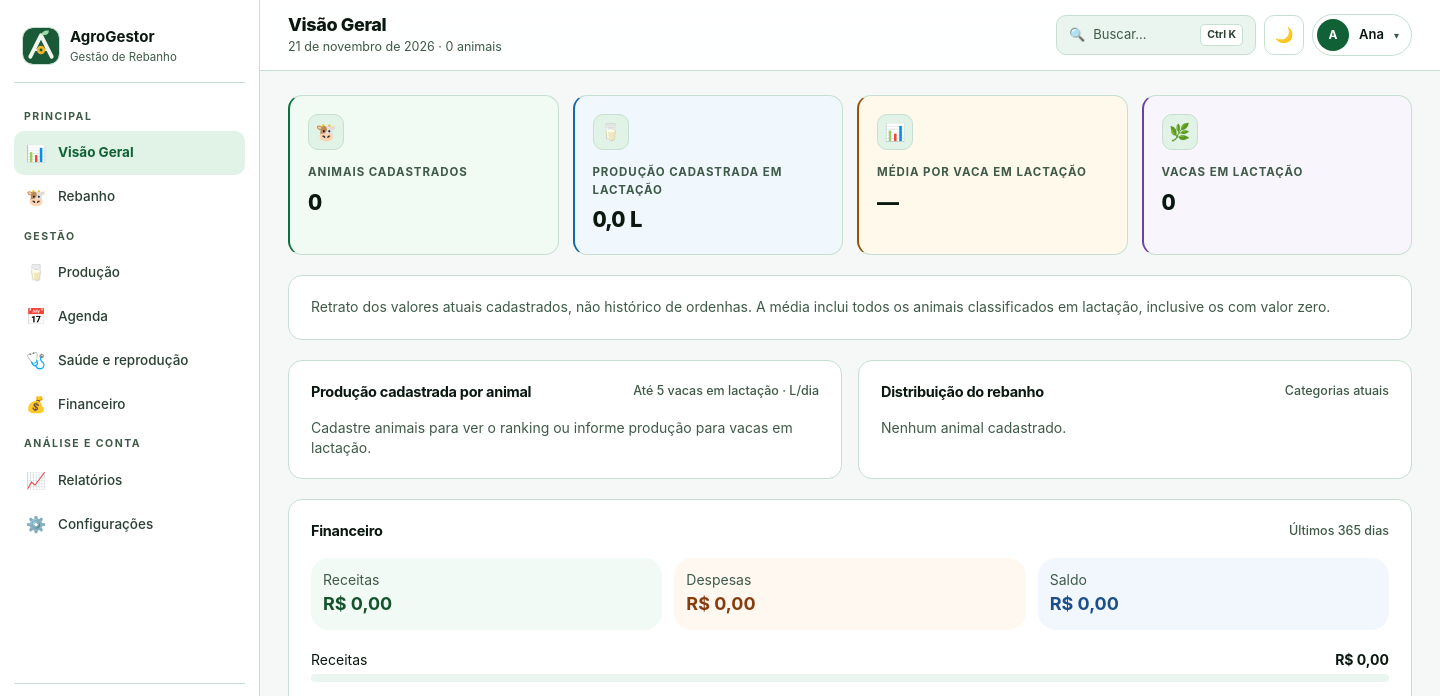
Scenario: permite recolher, usar e expandir a barra lateral
Click the button named "Recolher barra lateral".
click(41, 46)  # box [22,27,60,65]
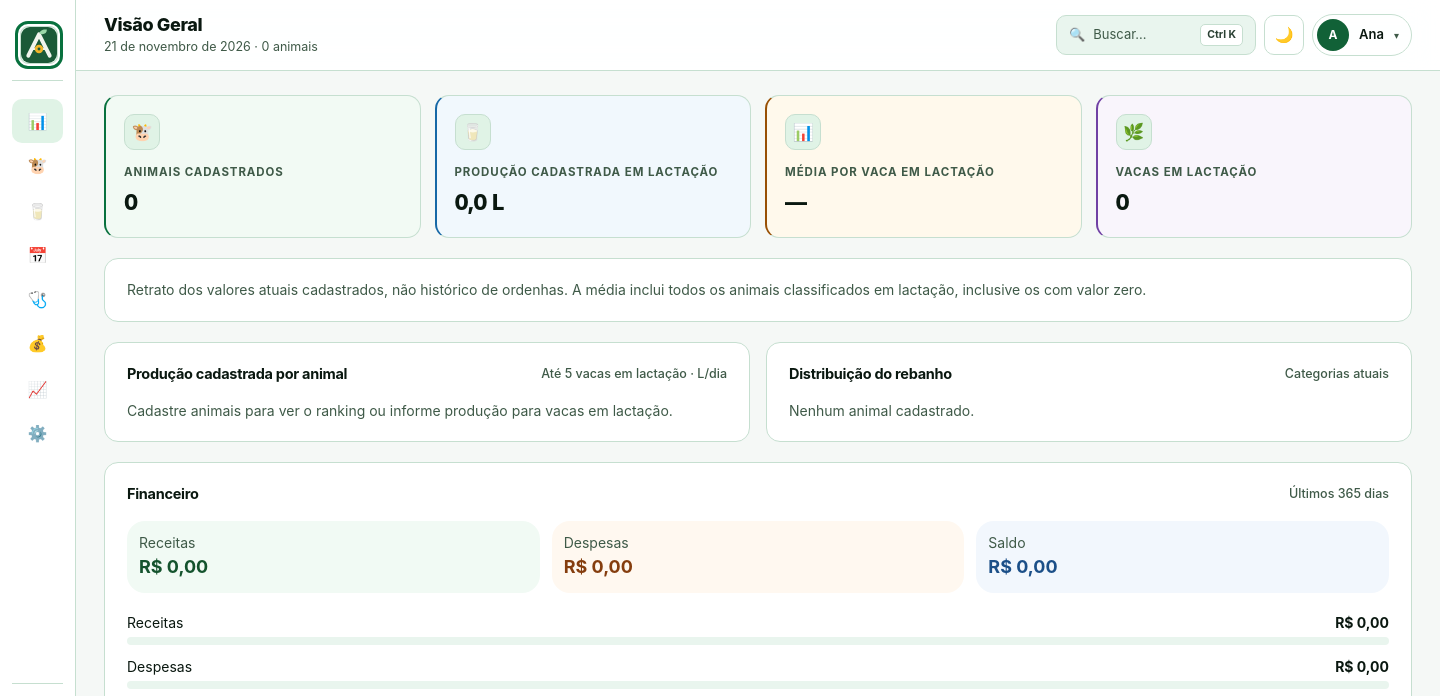
Now the button named "Expandir barra lateral" is collapsed, box [20,26,58,64]
Click the button named "Rebanho".
click(38, 165)  # box [12,143,63,187]
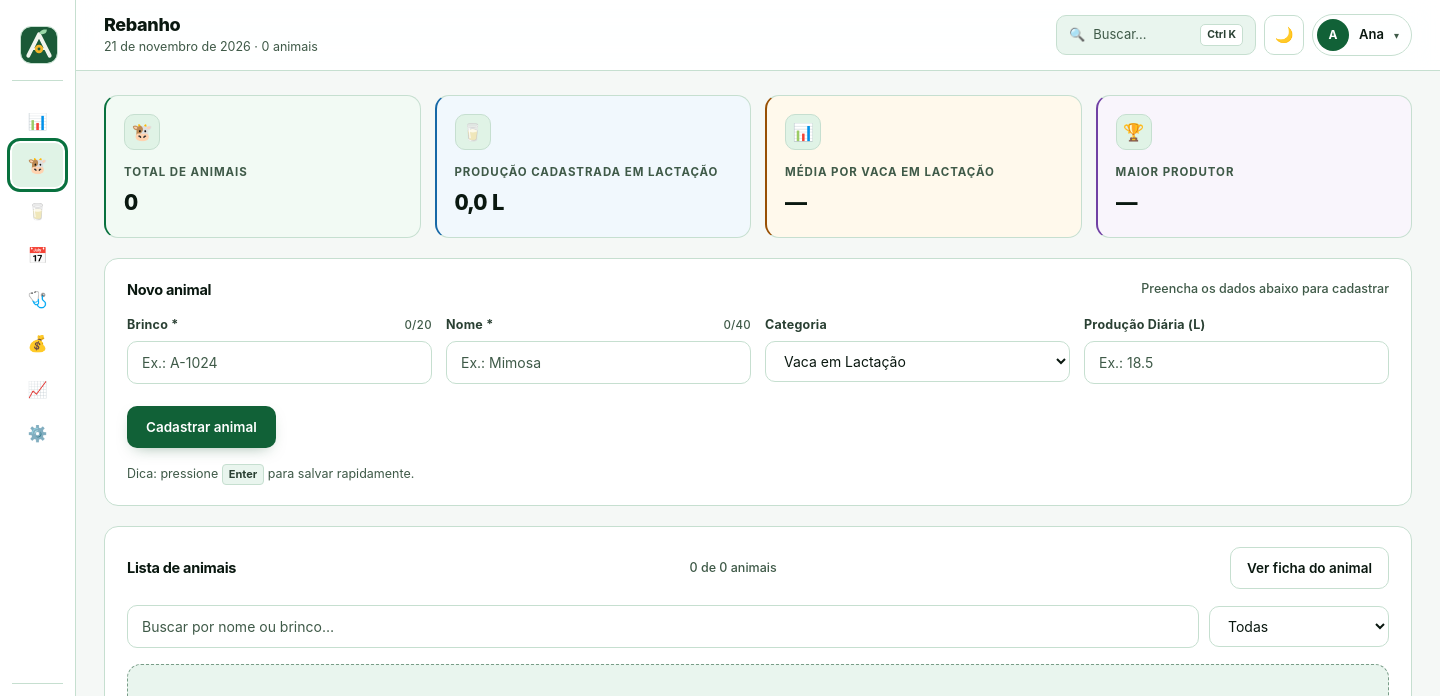
Now the heading "Rebanho" is shown, box [104,14,180,35]
Click the button named "Expandir barra lateral".
click(39, 45)  # box [20,26,58,64]
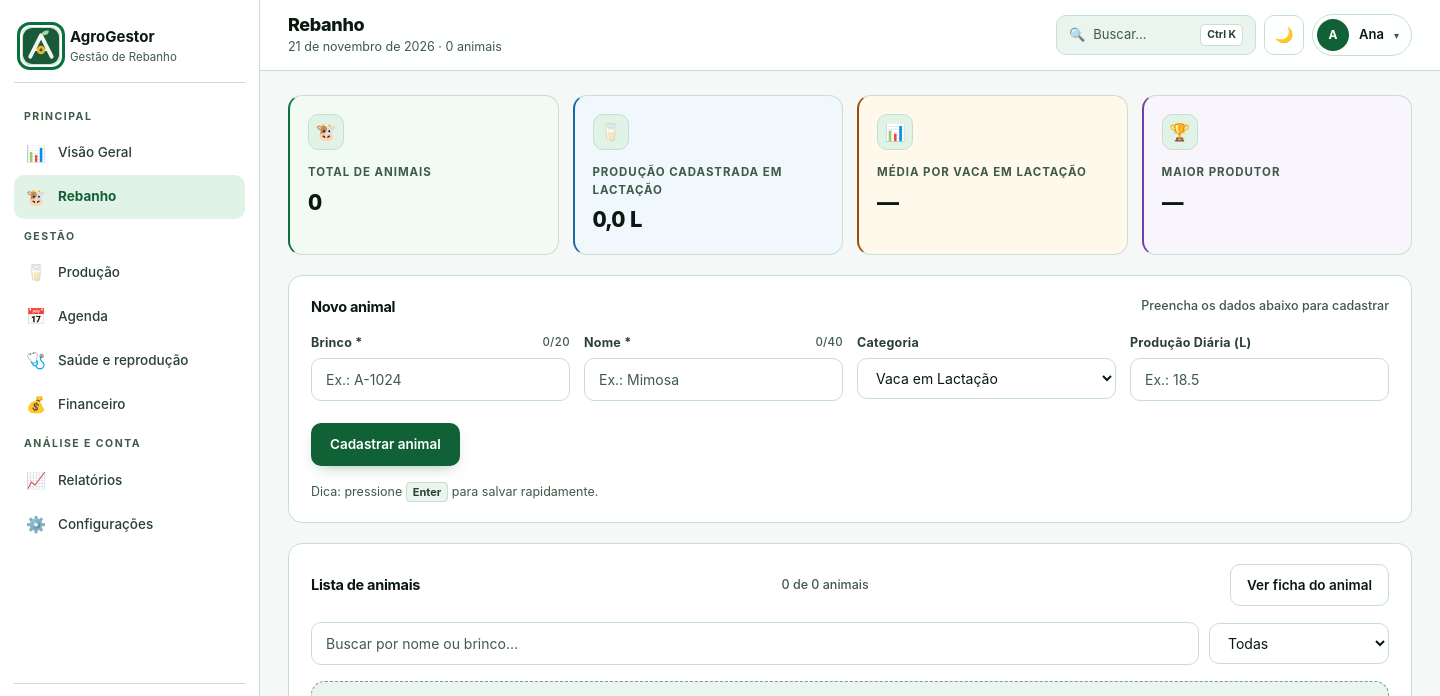
Now the button named "Recolher barra lateral" is expanded, box [22,27,60,65]
